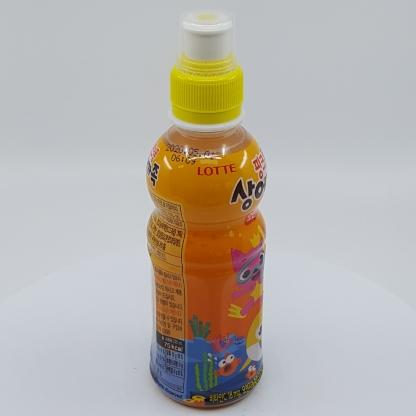----------235ML: (146, 8, 267, 408)
